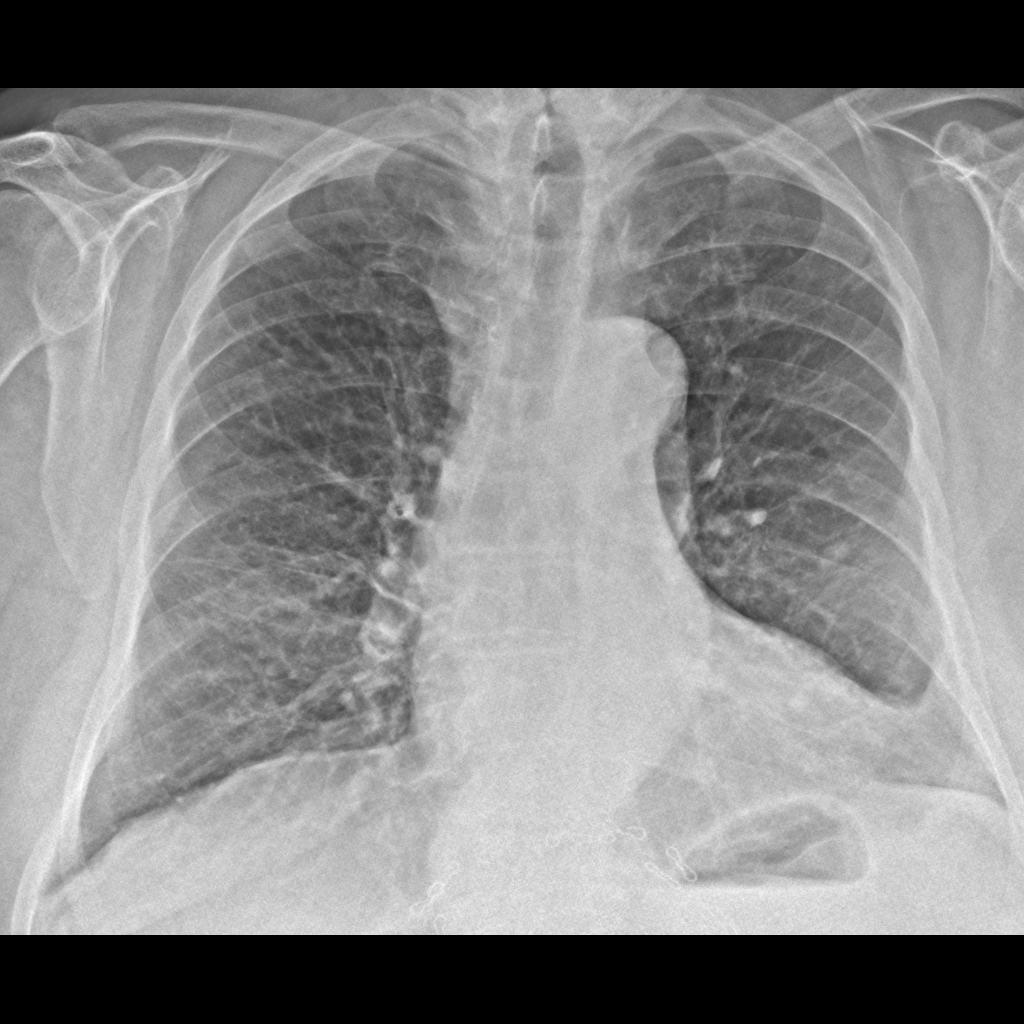Nodule: (819, 538, 858, 577)
